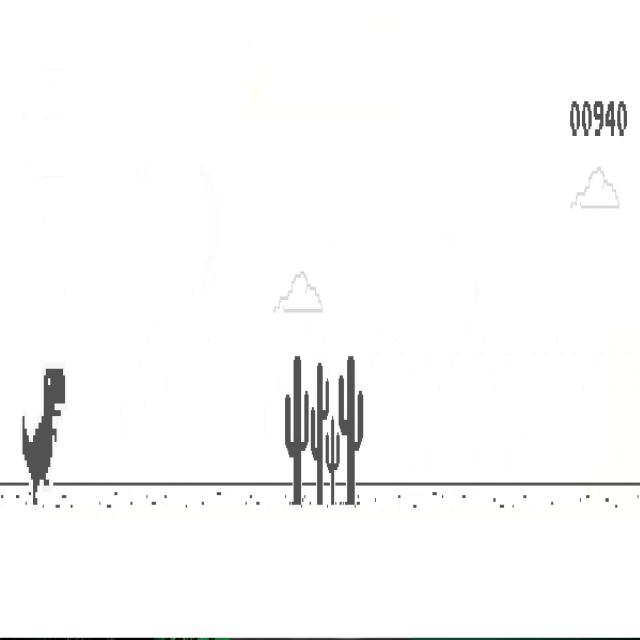cacto: (284, 356, 310, 507), (338, 355, 364, 506), (310, 362, 330, 506), (326, 416, 340, 506)
dino: (21, 368, 66, 506)
